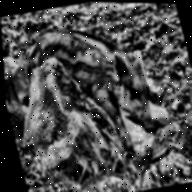boar: (24, 9, 178, 156)
